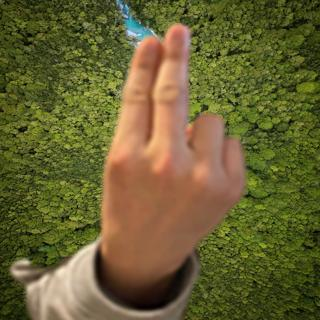DHAVE: (94, 19, 248, 275)
